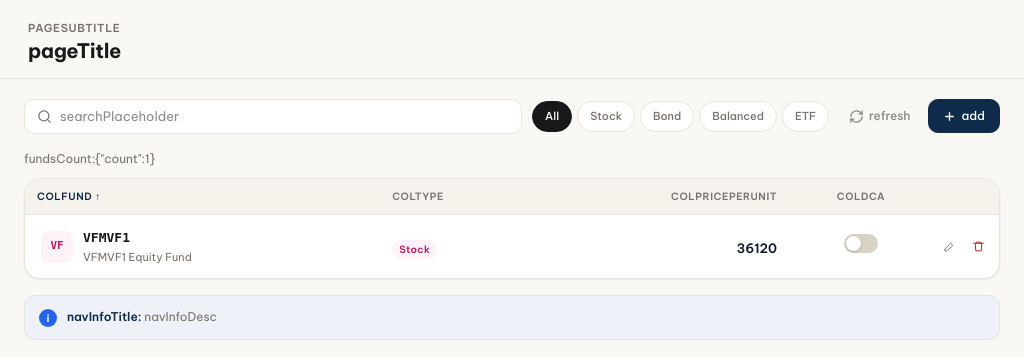
DesktopFundLibraryView — DCA amount edit must not desync from the server (#2) › a failed first save of a just-enabled DCA leaves the row off
The image size is (1024, 357).
Click the button named "enableDca": (861, 244) [844,234,878,253]
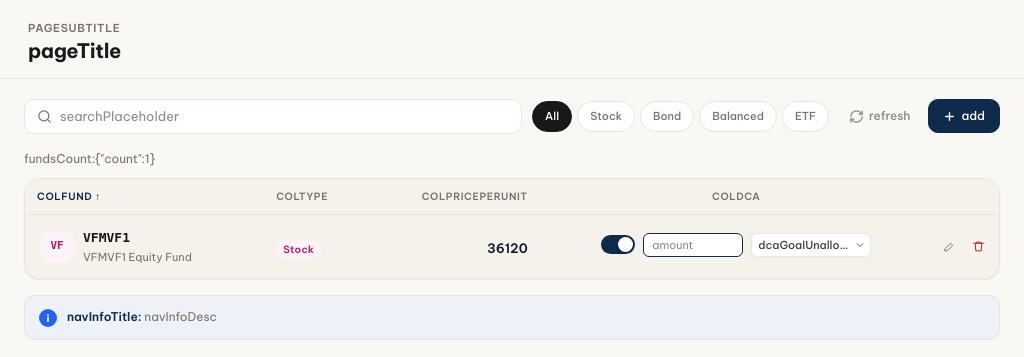
In the field with test id "dca-amount-input-f1": (693, 245) [643,233,743,257], type "3000000"
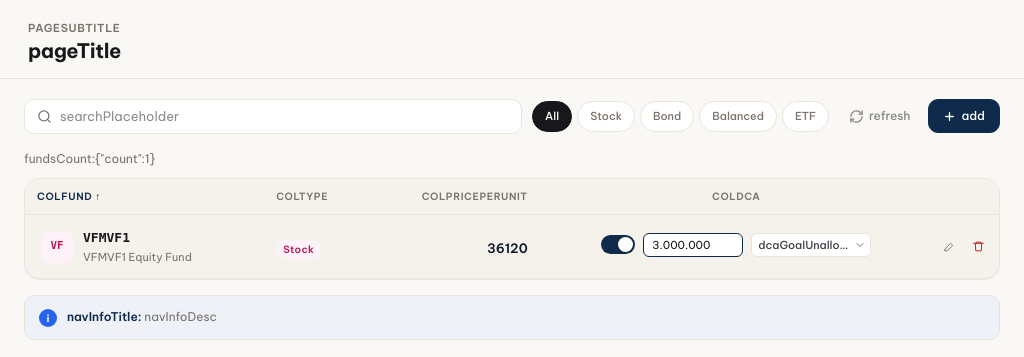
Leave the field with test id "dca-amount-input-f1", box [643,233,743,257]
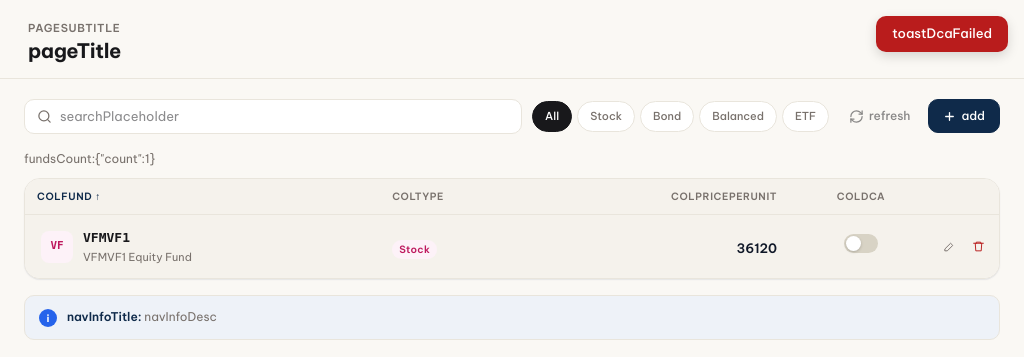
Now the button named "enableDca" is shown, box [844,234,878,253]
